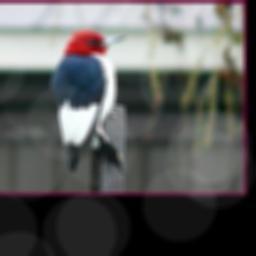Woodpecker: (49, 25, 128, 177)
